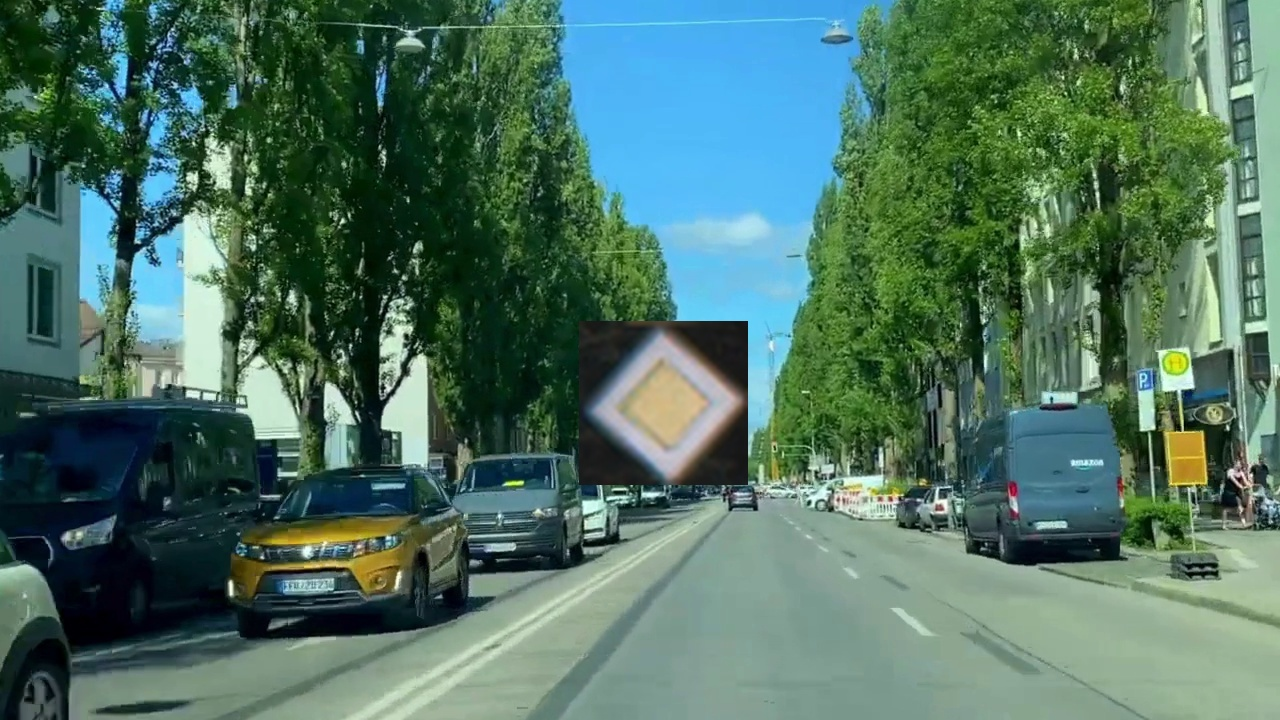Priority road: (579, 321, 748, 485)
